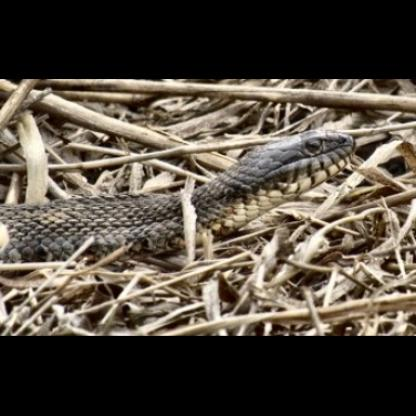Snake: (0, 117, 361, 261)
